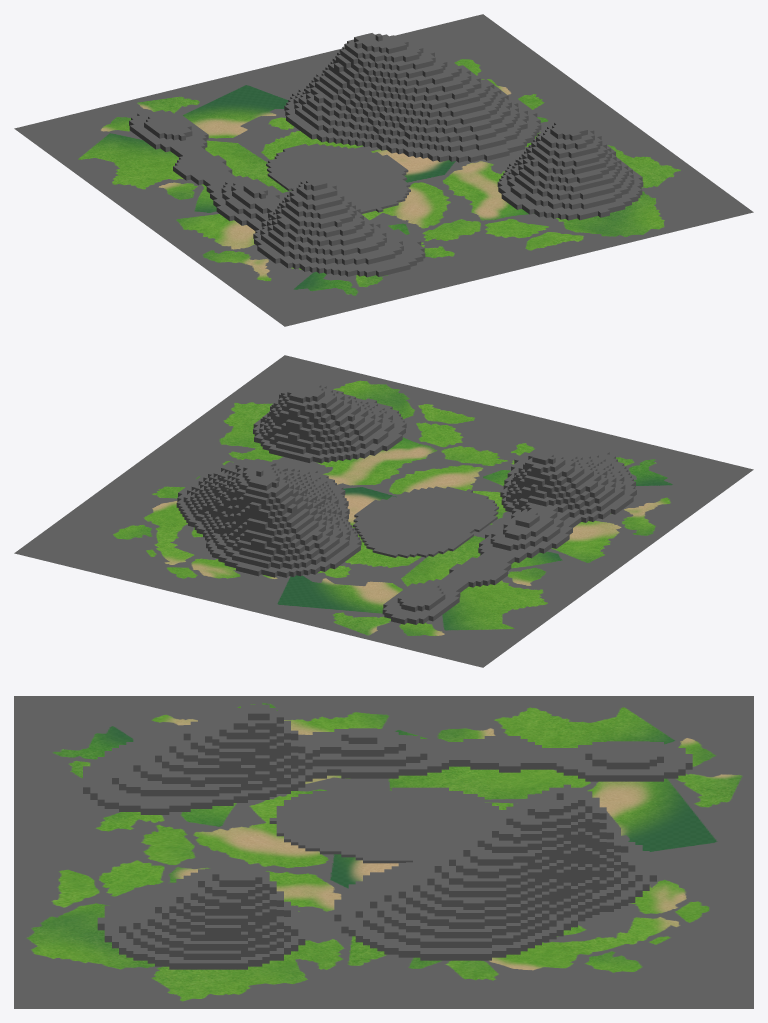
Rendered from Antonio Terrain VOX 001.obj.
3 views of the same model, one above another, from view 1: azimuth 30°, elevation 25°; view 2: azimuth 150°, elevation 25°; view 3: azimuth 270°, elevation 25° (orthographic). The views are drawn at different scales.
Visible parts, largest first — view 1: Plane; view 2: Plane; view 3: Plane.
Part boxes in pixels (left/top/right/bottom): Plane: left=14, top=14, right=753, bottom=326; Plane: left=14, top=355, right=753, bottom=667; Plane: left=14, top=696, right=753, bottom=1008.
Size of the model in its own units: 2.69 by 0.625 by 2.69.
Materials: 1 (1 with a texture image).
